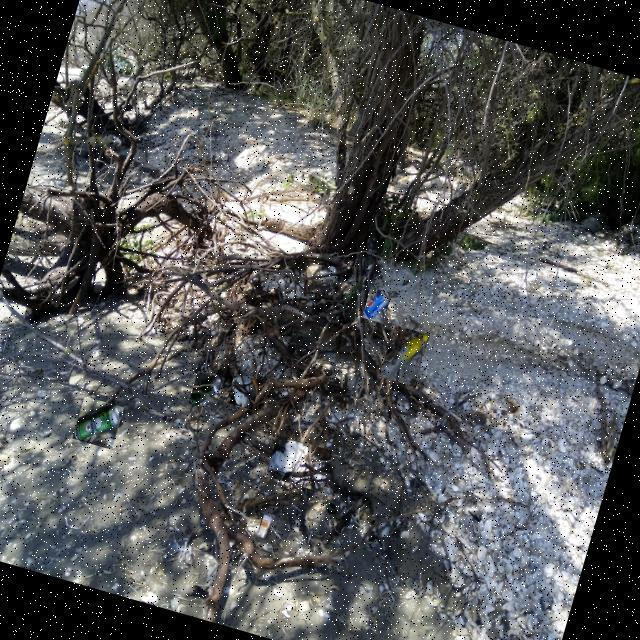Clear plastic bottle: (382, 335, 428, 379)
Drink can: (76, 405, 120, 441), (190, 377, 222, 405), (364, 290, 389, 320)
Other carton: (258, 515, 270, 537)
Plastic bottle cap: (409, 380, 416, 386)
Plastic film: (267, 441, 326, 489)
Single-use carrier bag: (233, 375, 256, 407)
